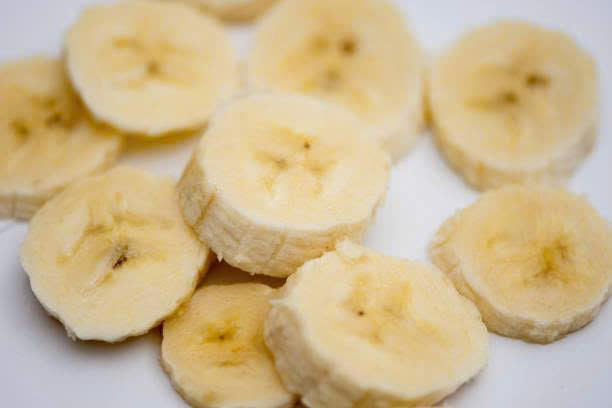banana: (264, 231, 488, 408), (186, 96, 391, 273), (423, 178, 612, 342), (425, 17, 612, 181), (27, 166, 198, 339), (61, 1, 238, 126), (254, 3, 423, 119)
